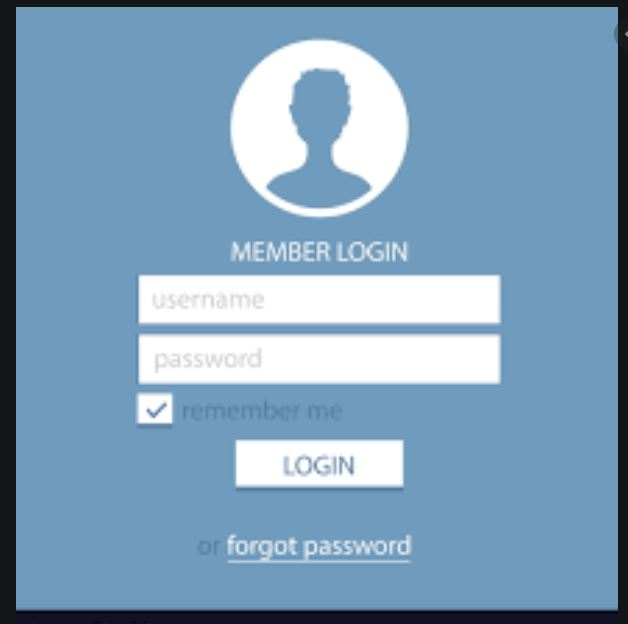button: (226, 430, 415, 502)
textbox: (127, 265, 516, 330), (128, 330, 510, 392)
